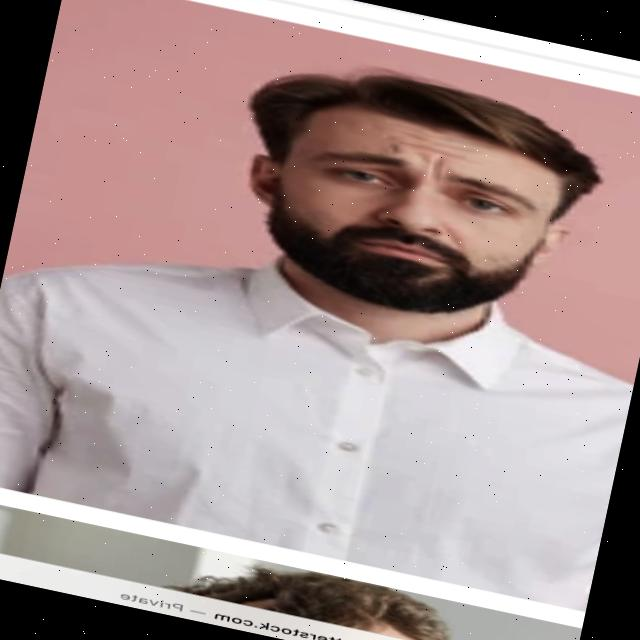sad: (223, 68, 619, 343)
